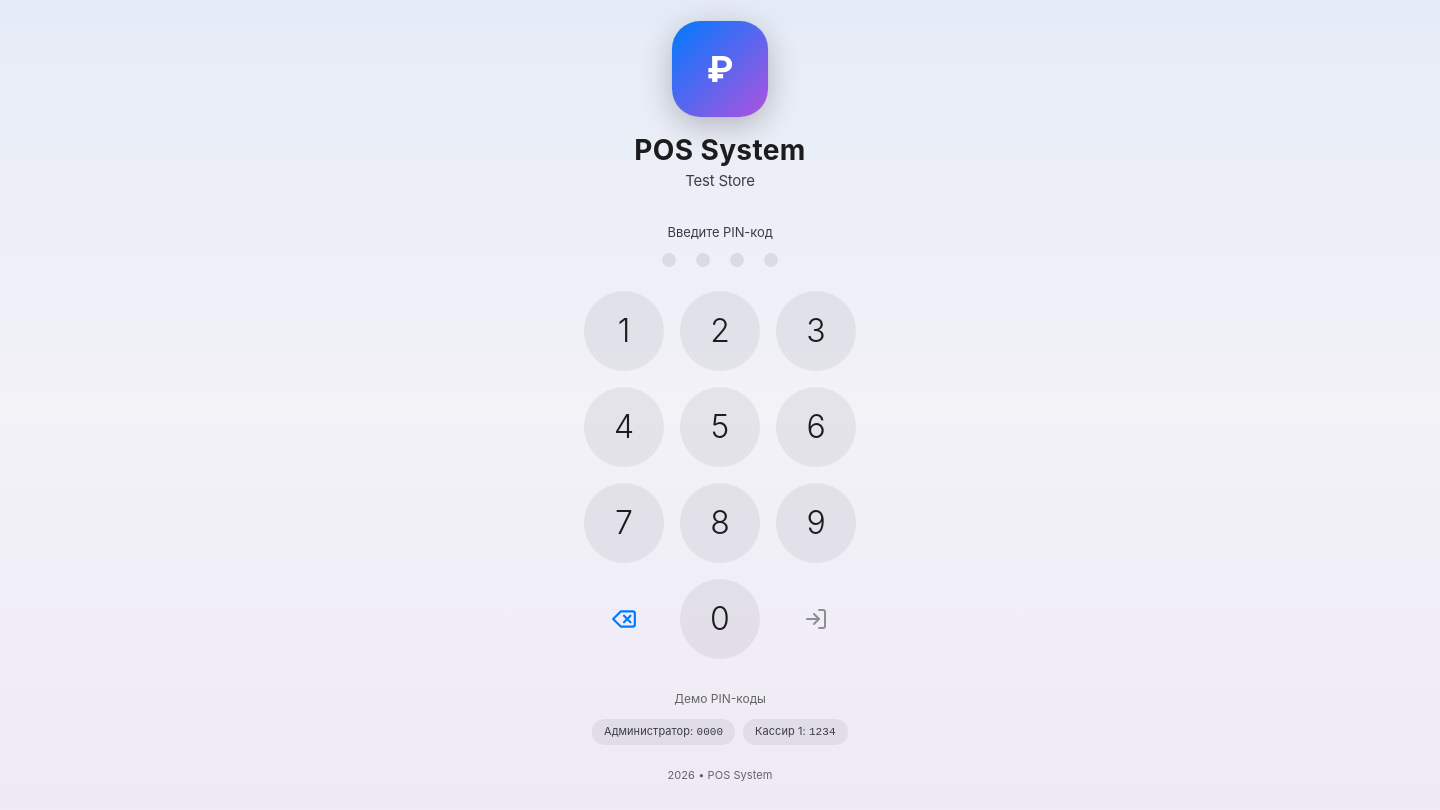
Test: PinLogin › should show error for invalid PIN
Enter invalid PIN
Click the button named "Цифра 9".
click(816, 522)  # box x1=776 y1=482 x2=856 y2=562
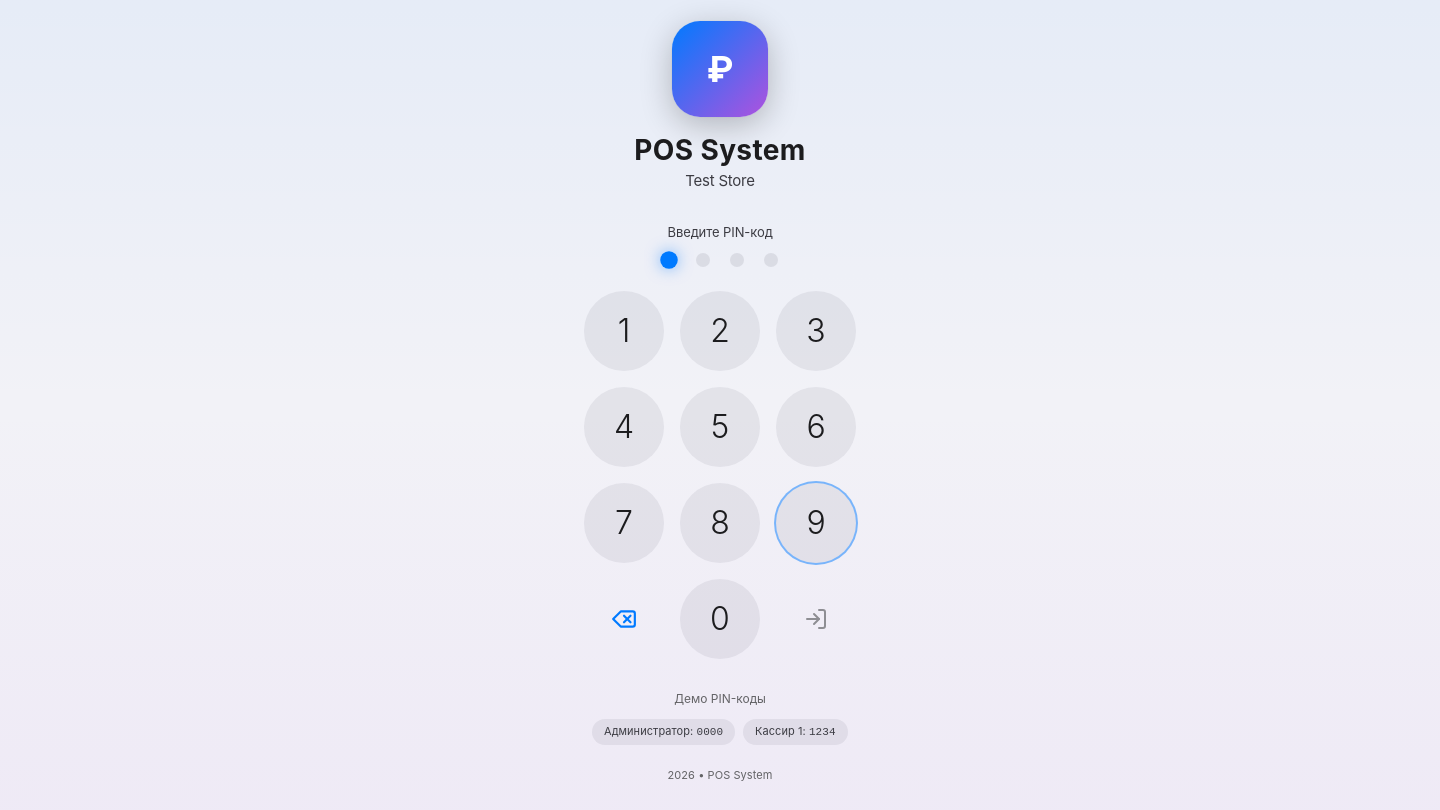
Click the button named "Цифра 9".
click(816, 522)  # box x1=776 y1=482 x2=856 y2=562
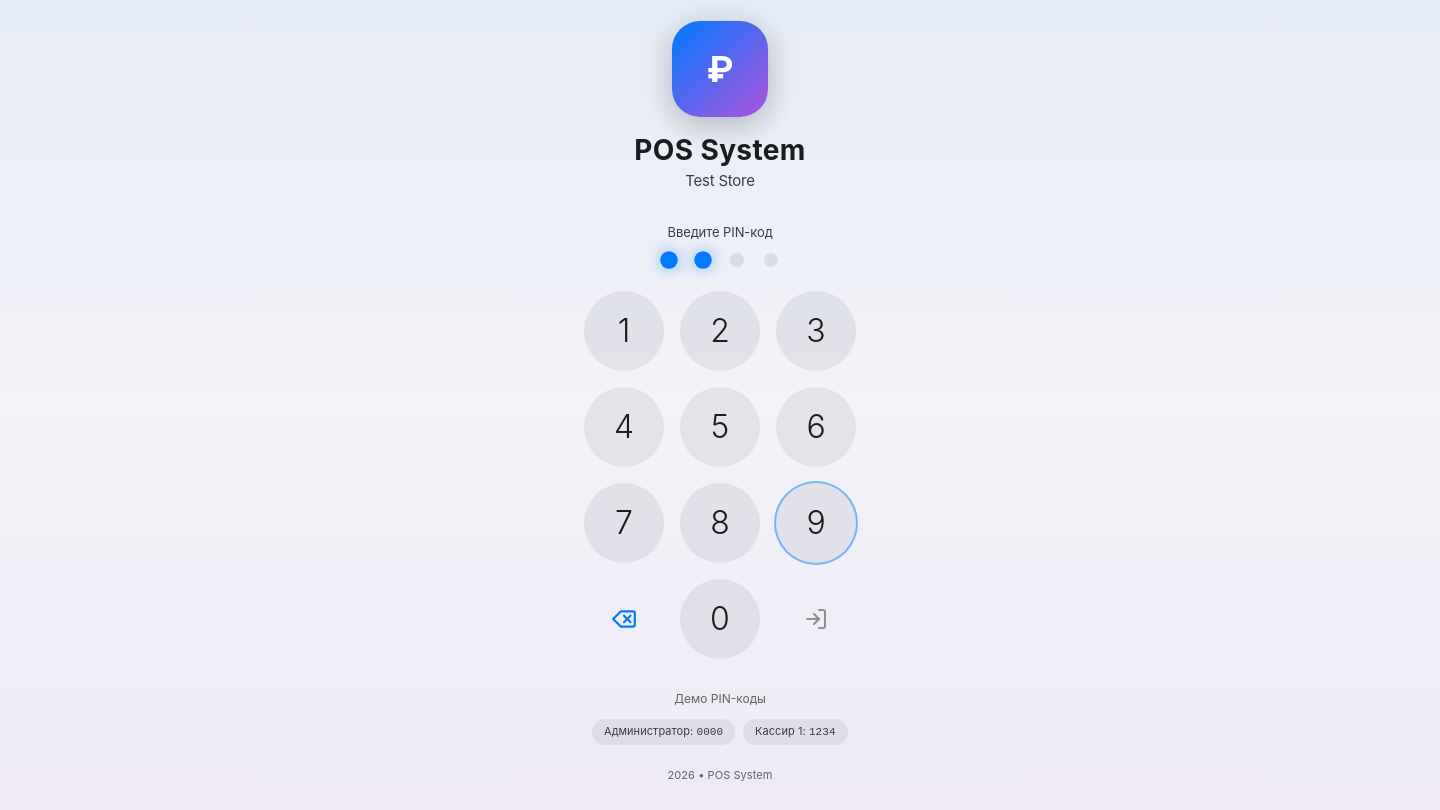
Click the button named "Цифра 9".
click(816, 522)  # box x1=776 y1=482 x2=856 y2=562
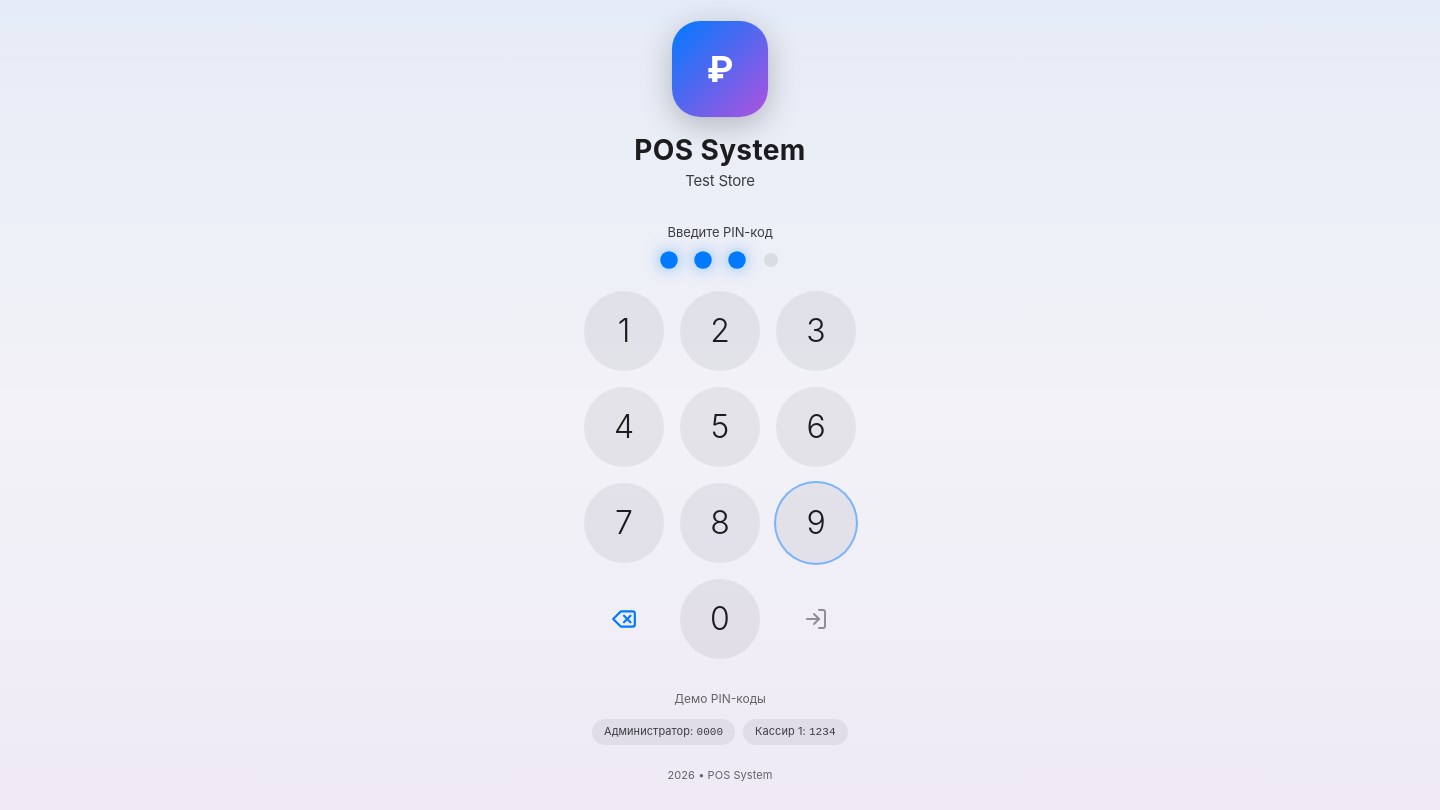
Click the button named "Цифра 9".
click(816, 522)  # box x1=776 y1=482 x2=856 y2=562
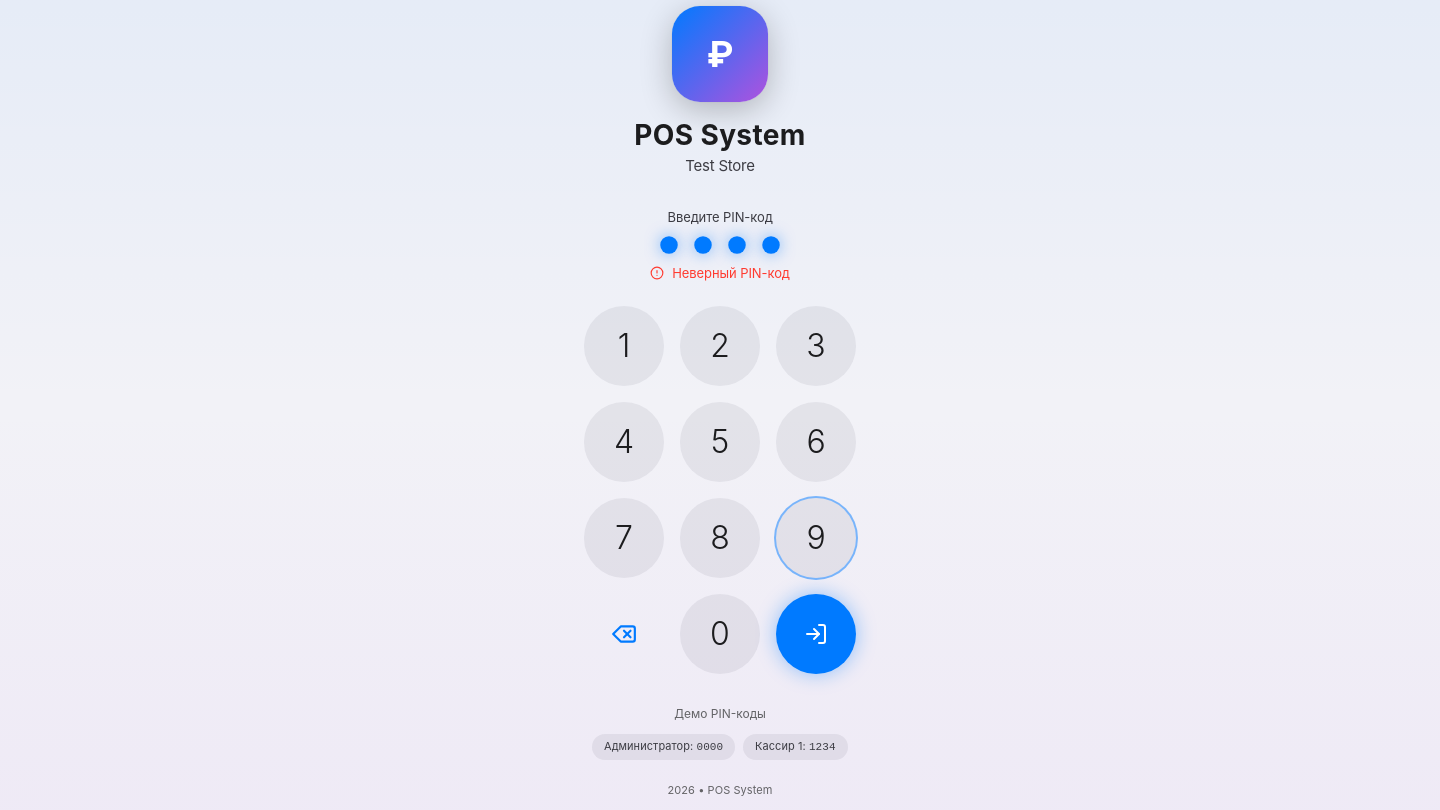
Expected: the text "Неверный PIN-код" is shown, x1=650 y1=264 x2=790 y2=282
